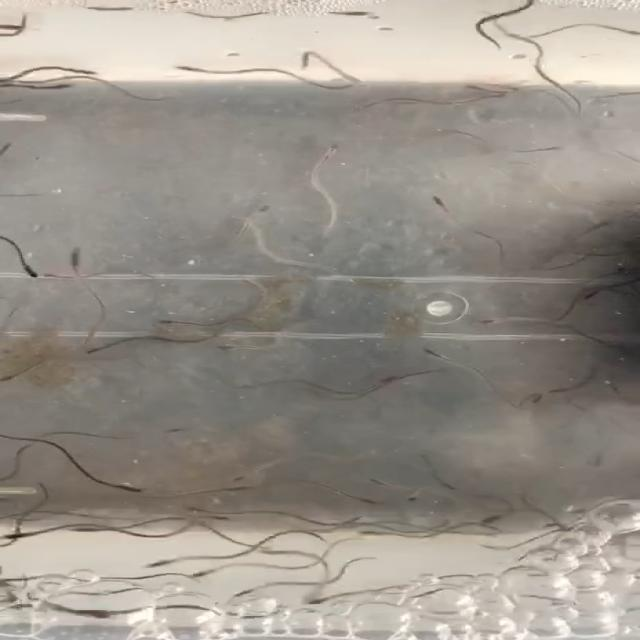active_glass_eel: (473, 511, 512, 528), (215, 340, 260, 354), (421, 346, 456, 363), (223, 469, 262, 484), (368, 372, 407, 386), (228, 587, 272, 599), (527, 391, 563, 405), (105, 480, 147, 492), (361, 474, 394, 489), (428, 194, 454, 213), (67, 246, 90, 267), (326, 8, 374, 18), (355, 528, 398, 539), (194, 566, 233, 578), (247, 203, 271, 222), (311, 592, 349, 604), (350, 494, 387, 506), (316, 142, 342, 159), (582, 217, 610, 232), (142, 559, 177, 571), (39, 83, 77, 94), (32, 272, 68, 283), (178, 503, 214, 514), (608, 27, 640, 39), (0, 370, 24, 386), (17, 262, 38, 280), (0, 531, 34, 542), (83, 344, 116, 355), (174, 63, 204, 75), (528, 145, 568, 154), (398, 492, 428, 504), (482, 92, 520, 101), (480, 12, 504, 26), (154, 316, 186, 326), (160, 426, 192, 436), (476, 316, 507, 326), (70, 66, 103, 75), (200, 514, 232, 523), (495, 84, 526, 93), (540, 520, 571, 529), (584, 290, 603, 302)
